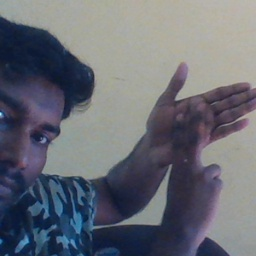N: (143, 61, 256, 194)
